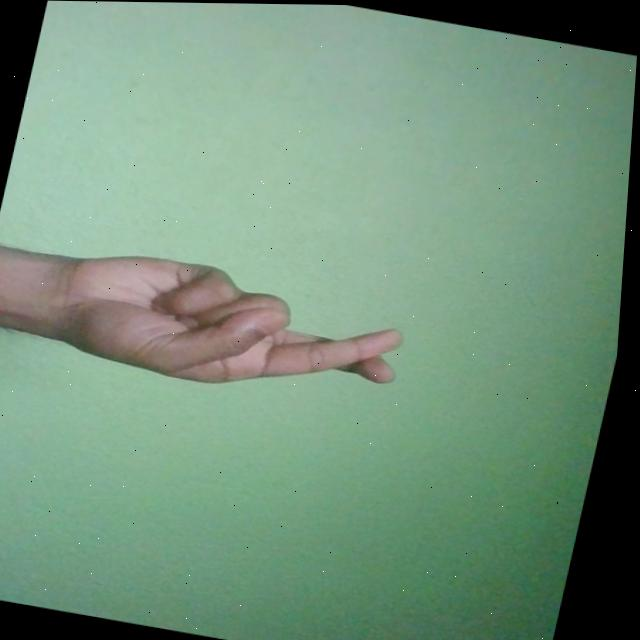Good Luck: (44, 240, 419, 413)
